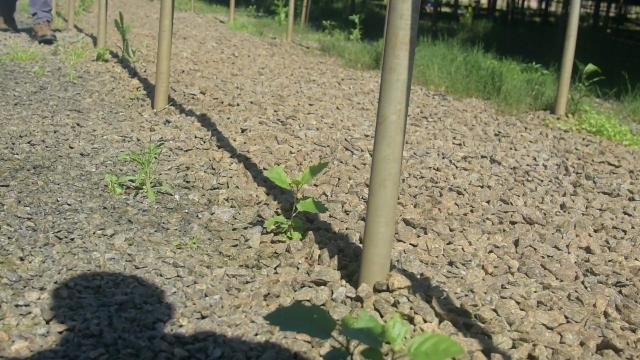MalezaMontesDelPlata: (242, 146, 346, 252), (96, 132, 178, 208), (483, 55, 554, 115), (418, 35, 485, 95), (98, 7, 149, 71), (570, 53, 607, 135), (574, 108, 640, 148), (53, 37, 94, 79), (0, 38, 41, 67)
